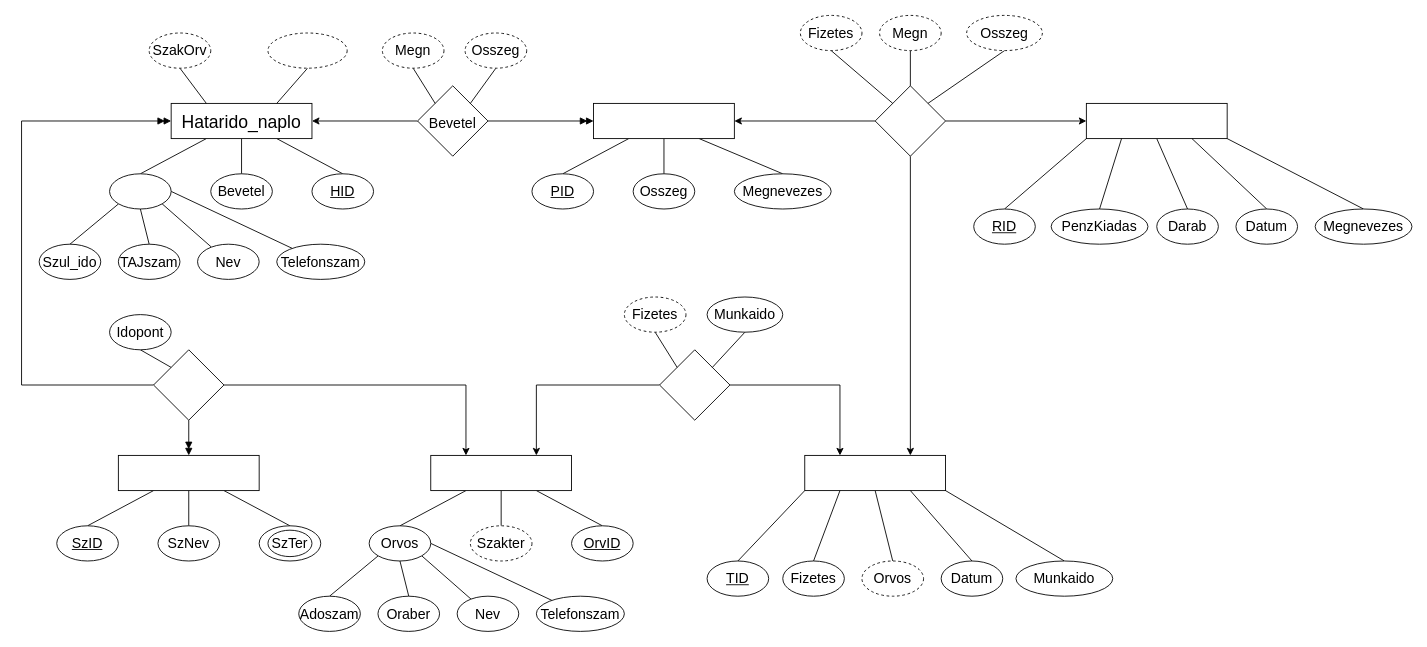
The diagram is 1427 pixels wide and 647 high, and some of its shapes have lost their labels. The centre of each missing label's shape, as x and y in pixels:
Dolgozik: [694,384]
Kiadas: [910,120]
Megrendelesek: [1156,121]
Orvosok: [501,473]
Paciens: [140,191]
Penzugy: [663,121]
Rendeles: [188,384]
SzakRend: [307,50]
Szakrendeles: [188,473]
Teljesitmeny_igazolas: [875,473]
